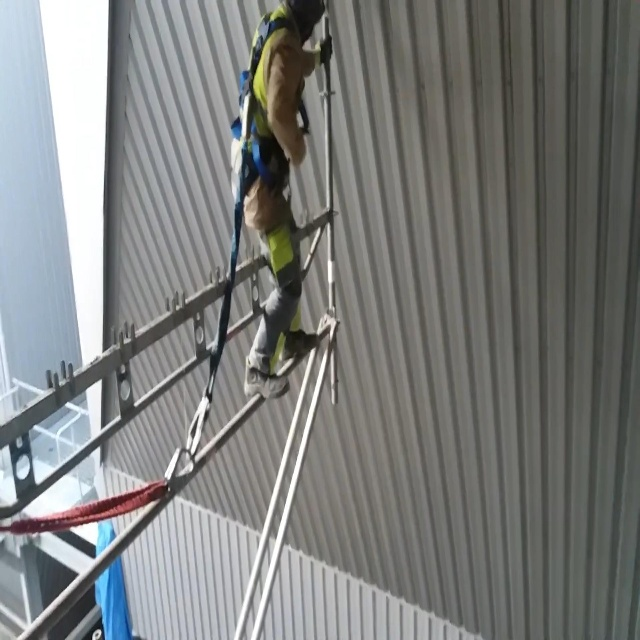Arnes_seguridad: (218, 0, 319, 230)
